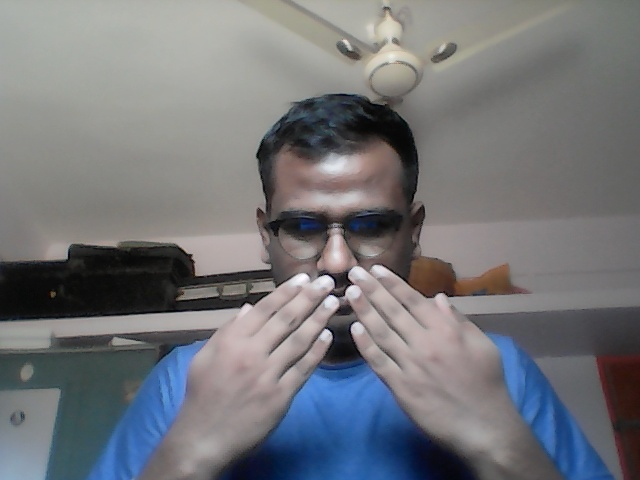Thank You: (186, 262, 507, 446)
